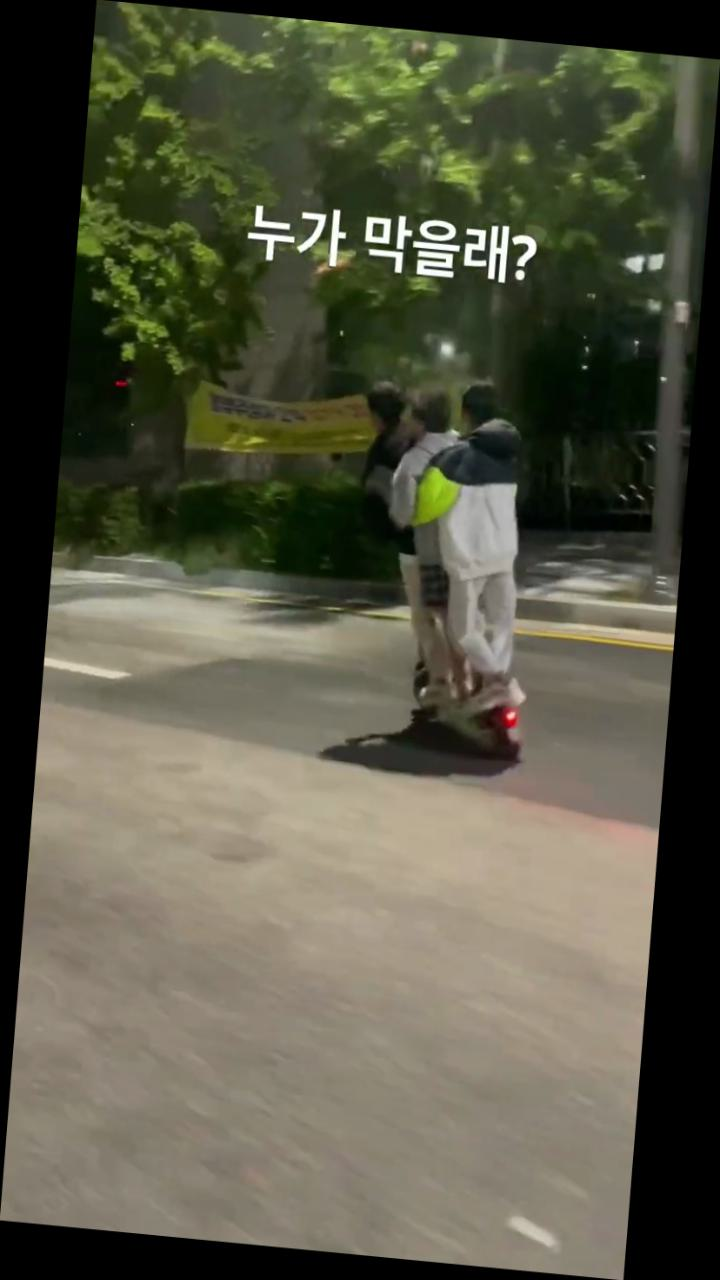multiple: (331, 366, 558, 767)
